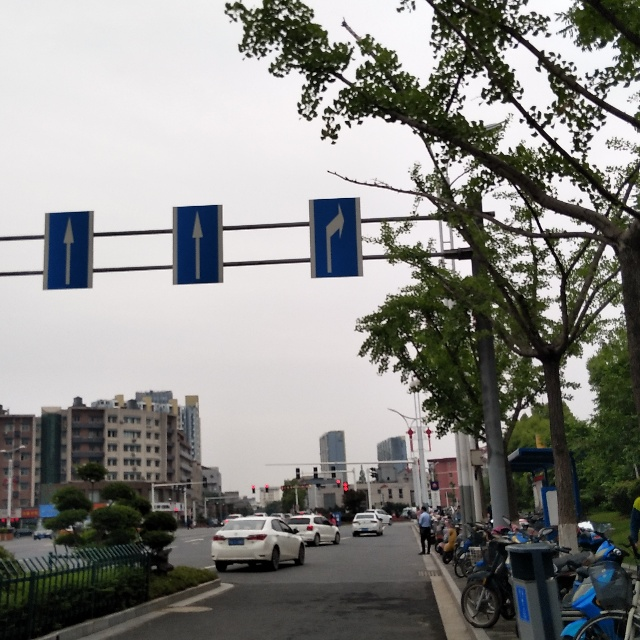right: (314, 200, 356, 273)
straight: (177, 208, 219, 284), (51, 212, 88, 286)
